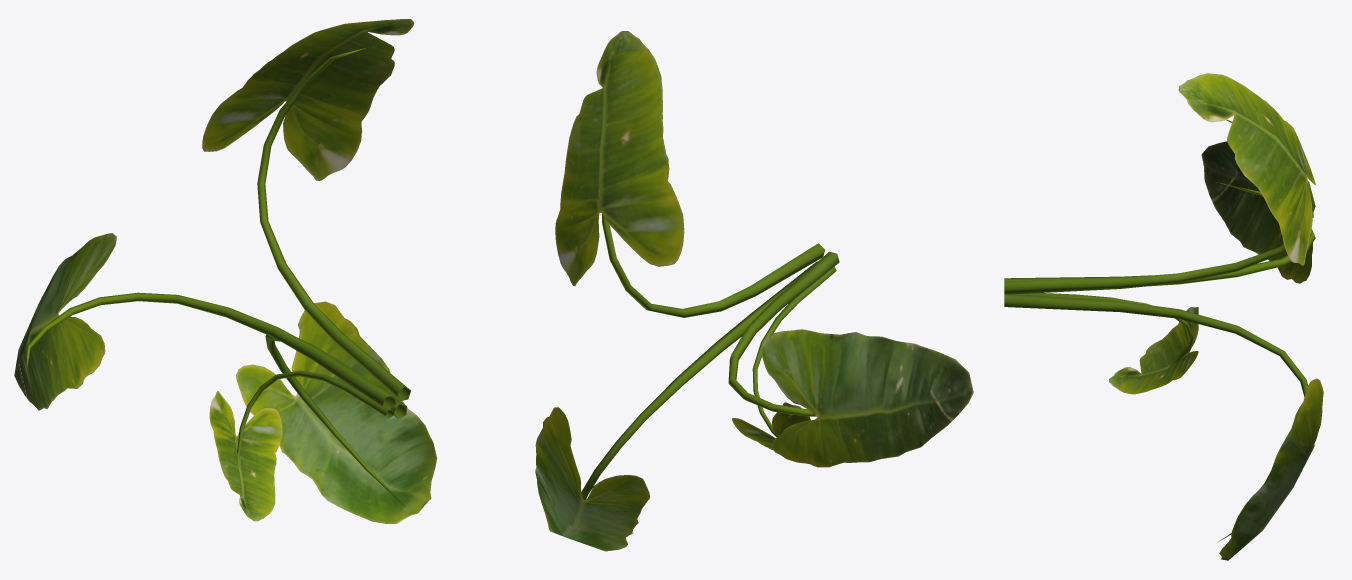
The model's file is wit_tales.fbx.
3 renders of one model, left to right at view 1: azimuth 30°, elevation 25°; view 2: azimuth 150°, elevation 25°; view 3: azimuth 270°, elevation 25°, orthographic. The views are drawn at different scales.
Visible parts, largest first — view 1: tales; view 2: tales; view 3: tales.
Part boxes in pixels (<box>): tales: <box>14,19,437,523</box>; tales: <box>535,31,973,551</box>; tales: <box>1004,73,1323,560</box>.
Size of the model in its own units: 298 by 362 by 215.
